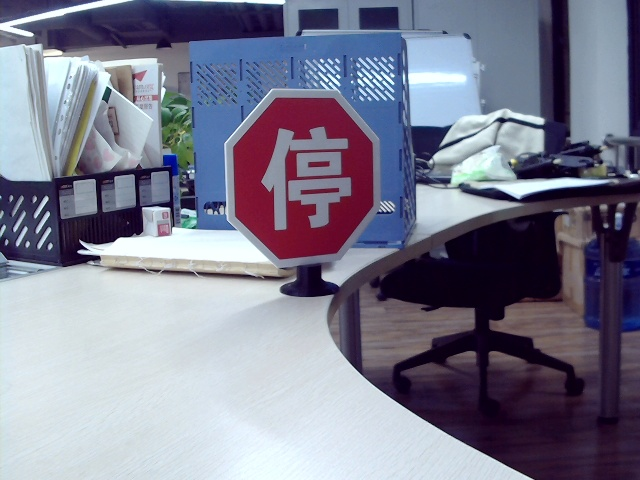stop: (260, 123, 356, 233)
